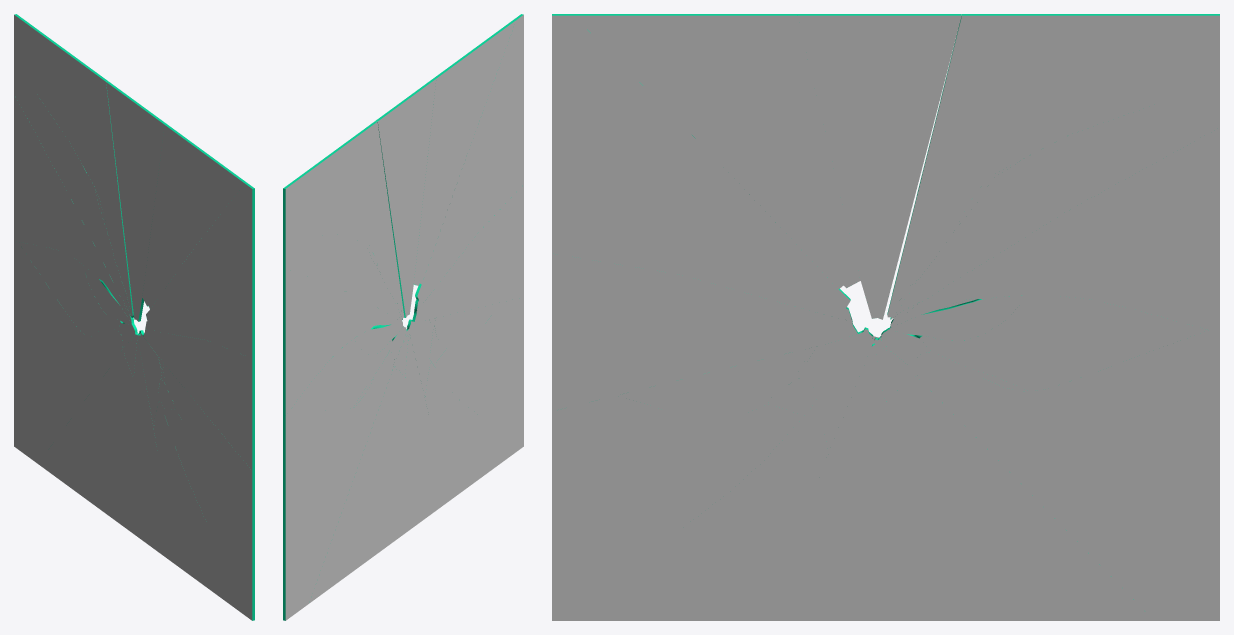
File: shattered_glass.glb
The picture shows the model from 3 angles, left to right: view 1: azimuth 30°, elevation 25°; view 2: azimuth 150°, elevation 25°; view 3: azimuth 270°, elevation 25°; orthographic projection. The views are drawn at different scales.
Parts seen in each view (by area): view 1: Glass, Edges; view 2: Glass, Edges; view 3: Glass, Edges.
Boxes of the visible parts, bbox=[...] form: Glass: bbox=[14, 15, 252, 620]; Edges: bbox=[14, 14, 254, 620]; Glass: bbox=[285, 15, 523, 620]; Edges: bbox=[283, 14, 523, 620]; Glass: bbox=[552, 14, 1219, 620]; Edges: bbox=[552, 14, 1219, 599].
Size of the model in its own units: 0.0124 by 2 by 2.
